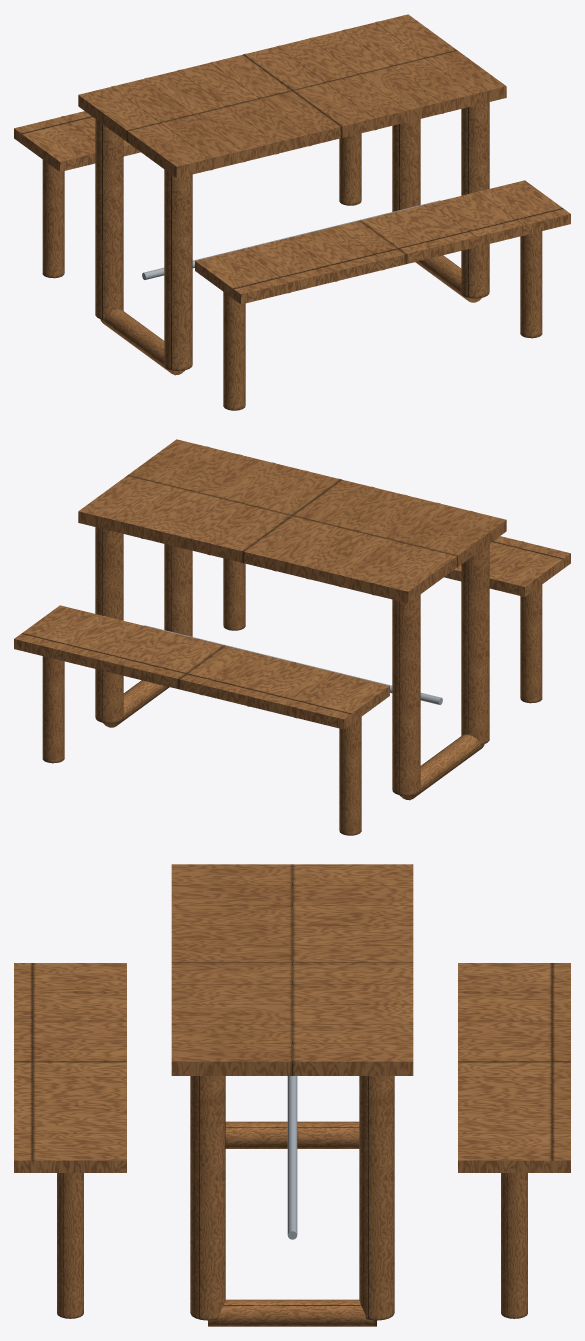
The model's file is Sorgarnitura_2_szemelyes.obj.
The picture shows the model from 3 angles, top to bottom: view 1: azimuth 30°, elevation 25°; view 2: azimuth 150°, elevation 25°; view 3: azimuth 270°, elevation 25°; orthographic projection. The views are drawn at different scales.
Bounding box in the file's own units: 1.2 × 0.776 × 1.43.
Materials: 2 (1 with a texture image).
